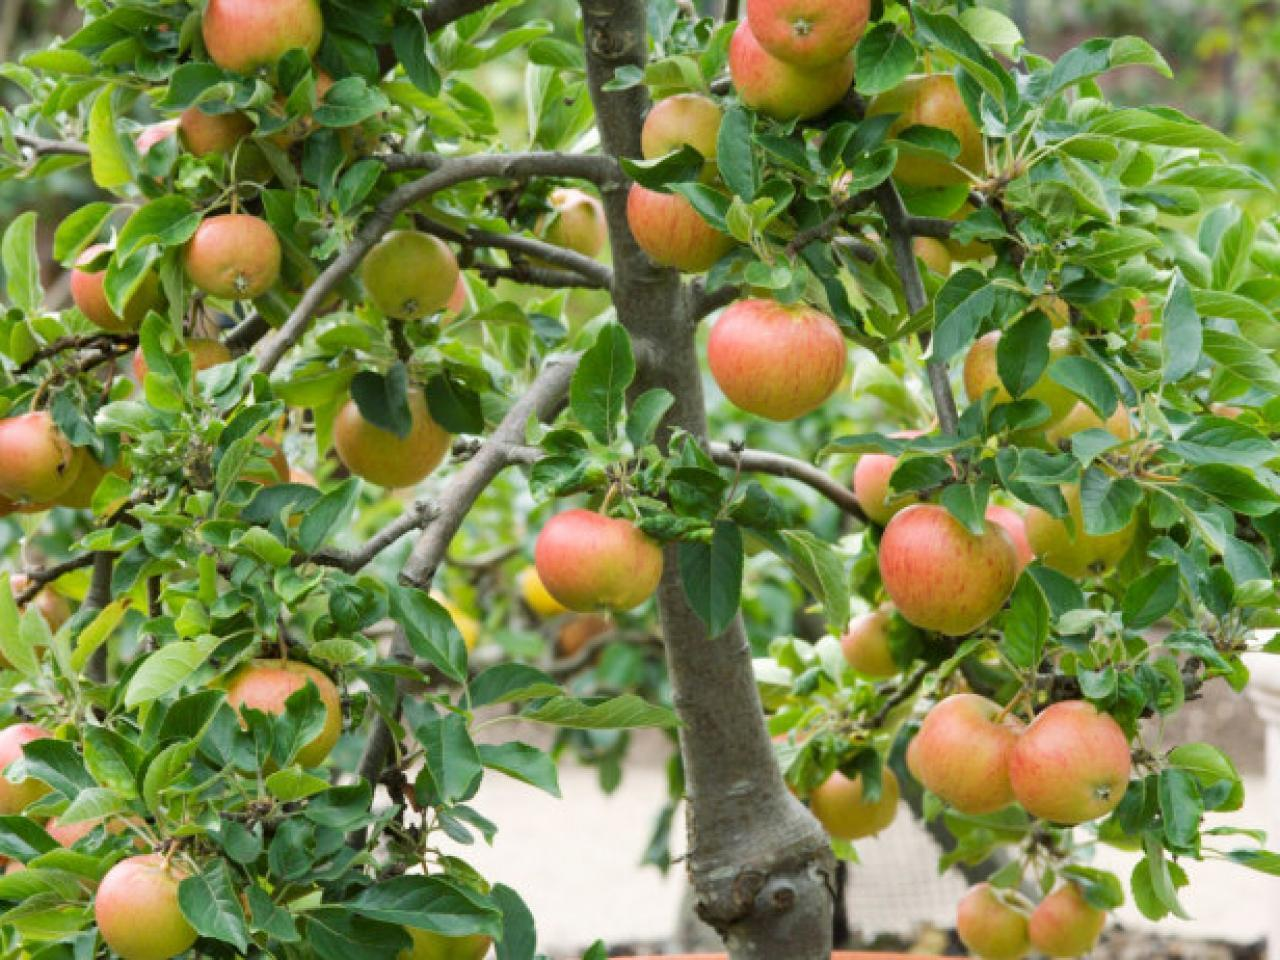apple: (875, 500, 1018, 636), (707, 293, 846, 419), (1006, 699, 1131, 827), (329, 366, 453, 493), (528, 505, 664, 617), (906, 691, 1022, 815), (869, 74, 990, 182), (232, 656, 338, 779), (729, 19, 854, 120), (90, 847, 200, 960), (966, 326, 1083, 430), (626, 160, 738, 268), (1027, 477, 1136, 578), (196, 1, 321, 78), (358, 228, 457, 322), (181, 211, 279, 302), (67, 246, 157, 333), (1, 413, 69, 504), (952, 882, 1031, 958), (1026, 879, 1105, 955), (636, 92, 723, 159)
